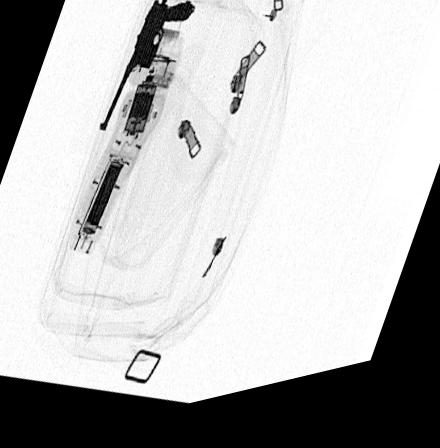Gun: (95, 2, 194, 138)
